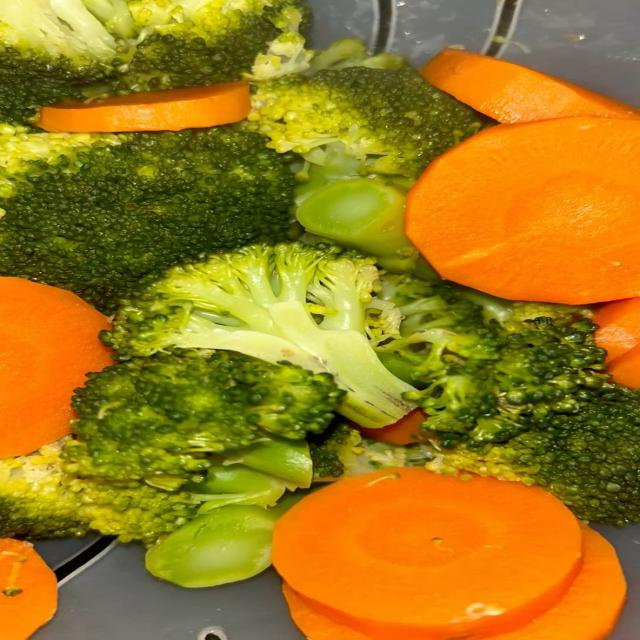broccoli: (383, 277, 639, 524), (104, 243, 413, 427), (248, 39, 485, 277), (0, 126, 293, 310), (65, 350, 342, 488), (0, 0, 310, 123), (248, 61, 485, 178), (0, 443, 199, 544), (295, 143, 437, 278), (309, 420, 433, 481)
carrot: (273, 467, 626, 640), (405, 117, 639, 303), (0, 277, 111, 457), (420, 48, 639, 123), (37, 81, 250, 132), (0, 538, 56, 640), (593, 297, 639, 359)
